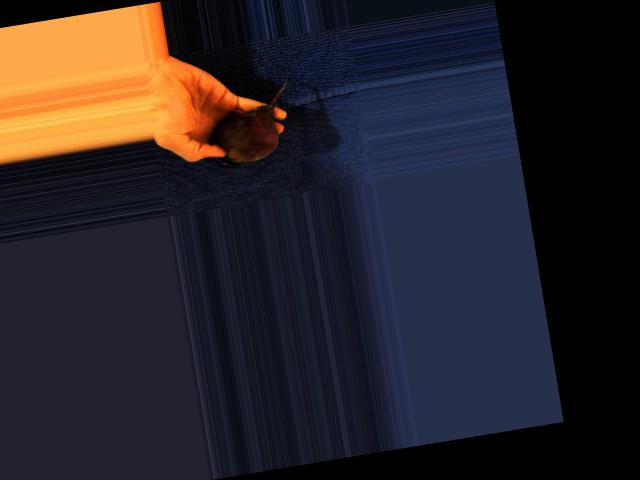beet: (202, 79, 300, 170)
